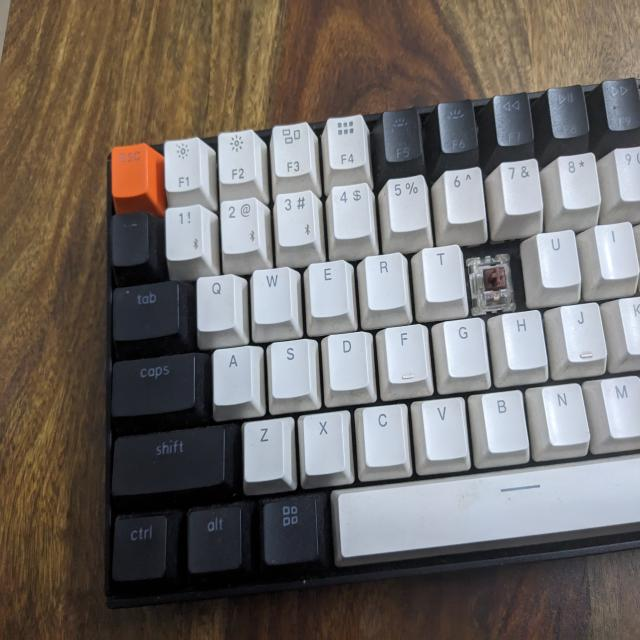C: (466, 253, 519, 311)
